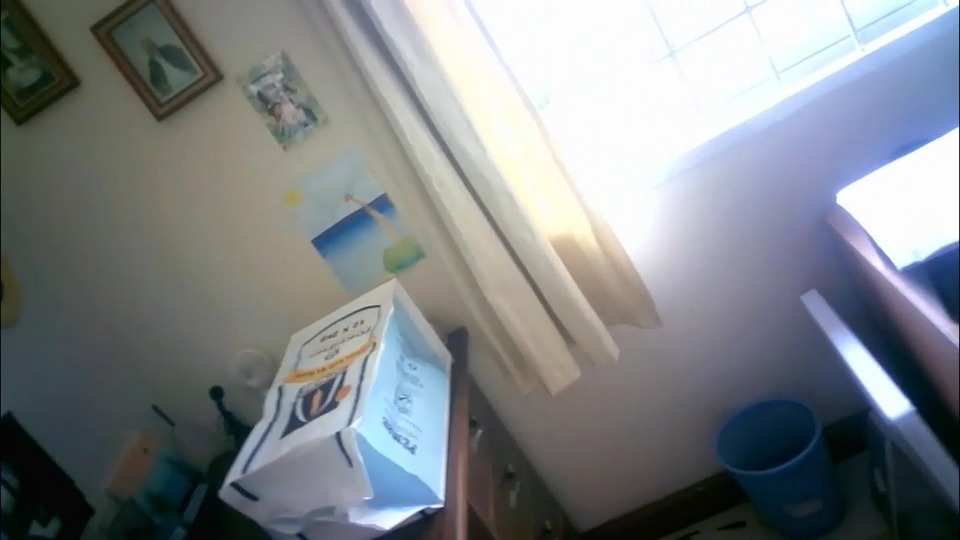wheat_flour_blue_label: (215, 279, 449, 537)
